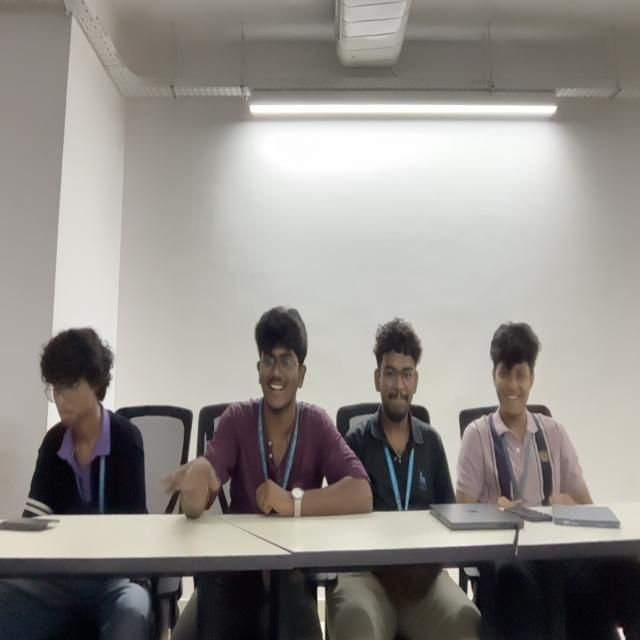Isolated: (20, 323, 146, 520)
socializing: (163, 304, 596, 514)
